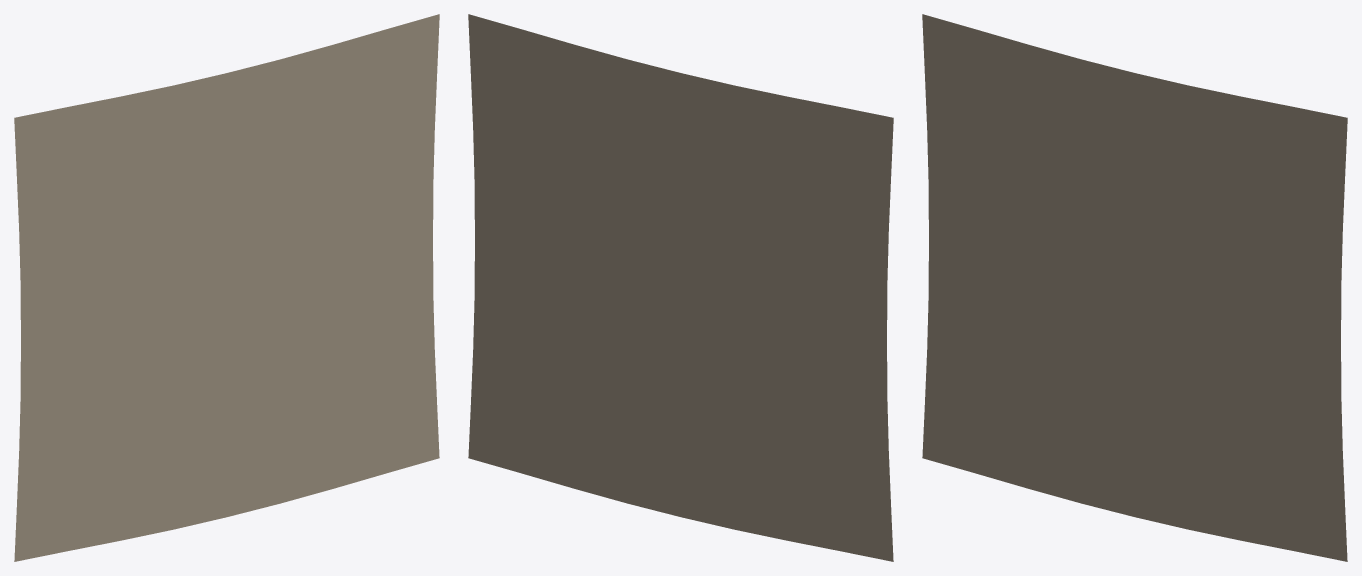
The model's file is SM_NetWall_4x4.fbx.
3 views of the same model, side by side, from view 1: azimuth 30°, elevation 25°; view 2: azimuth 150°, elevation 25°; view 3: azimuth 330°, elevation 25° (orthographic).
Visible parts, largest first — view 1: SM_Net_4x4; view 2: SM_Net_4x4; view 3: SM_Net_4x4.
Boxes of the visible parts, x1,y1,x2,y2 form: SM_Net_4x4: (14, 14, 439, 561); SM_Net_4x4: (468, 14, 893, 561); SM_Net_4x4: (922, 14, 1347, 561).
Bounding box in the file's own units: 401 × 406 × 9.54e-07.
